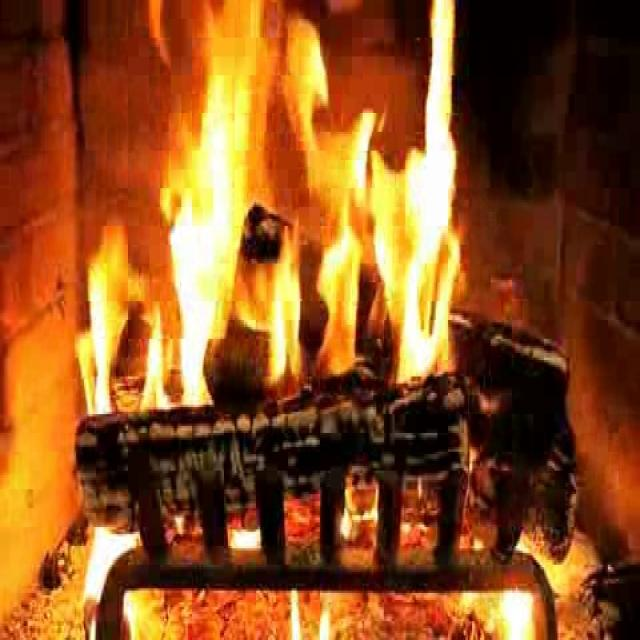fire: (124, 19, 458, 391)
